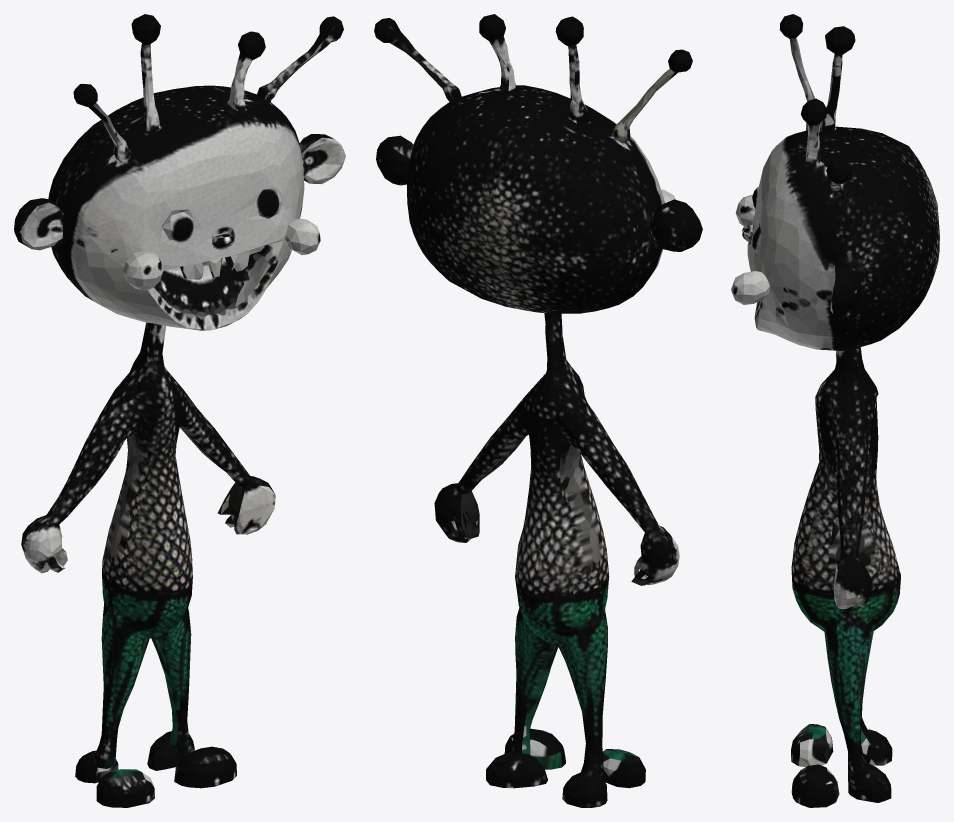
File: boy.glb
3 renders of one model, left to right at view 1: azimuth 30°, elevation 25°; view 2: azimuth 150°, elevation 25°; view 3: azimuth 270°, elevation 25°, orthographic. The views are drawn at different scales.
Parts seen in each view (by area): view 1: geometry_0; view 2: geometry_0; view 3: geometry_0.
Boxes of the visible parts, x1=… form: geometry_0: x1=14, y1=14, x2=345, y2=807; geometry_0: x1=374, y1=14, x2=702, y2=807; geometry_0: x1=731, y1=14, x2=939, y2=807.
Bounding box in the file's own units: 0.4466 × 1 × 0.2542.
1 material, 1 textured.
